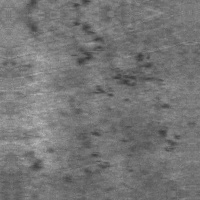rolled-in_scale: (82, 49, 169, 110), (73, 127, 135, 188), (68, 14, 106, 68)
